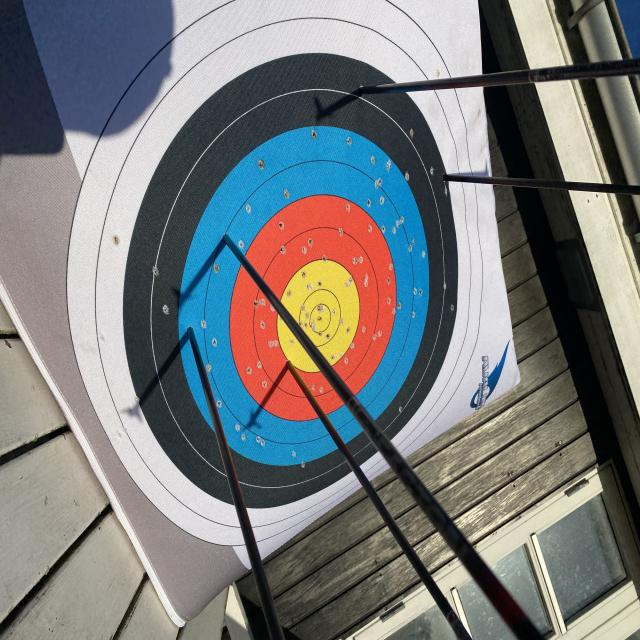Arrow_Black: (344, 76, 374, 106), (436, 160, 458, 193)
Arrow_Blue: (214, 217, 242, 259), (182, 316, 202, 352)
Arrow_Red: (277, 349, 300, 381)
